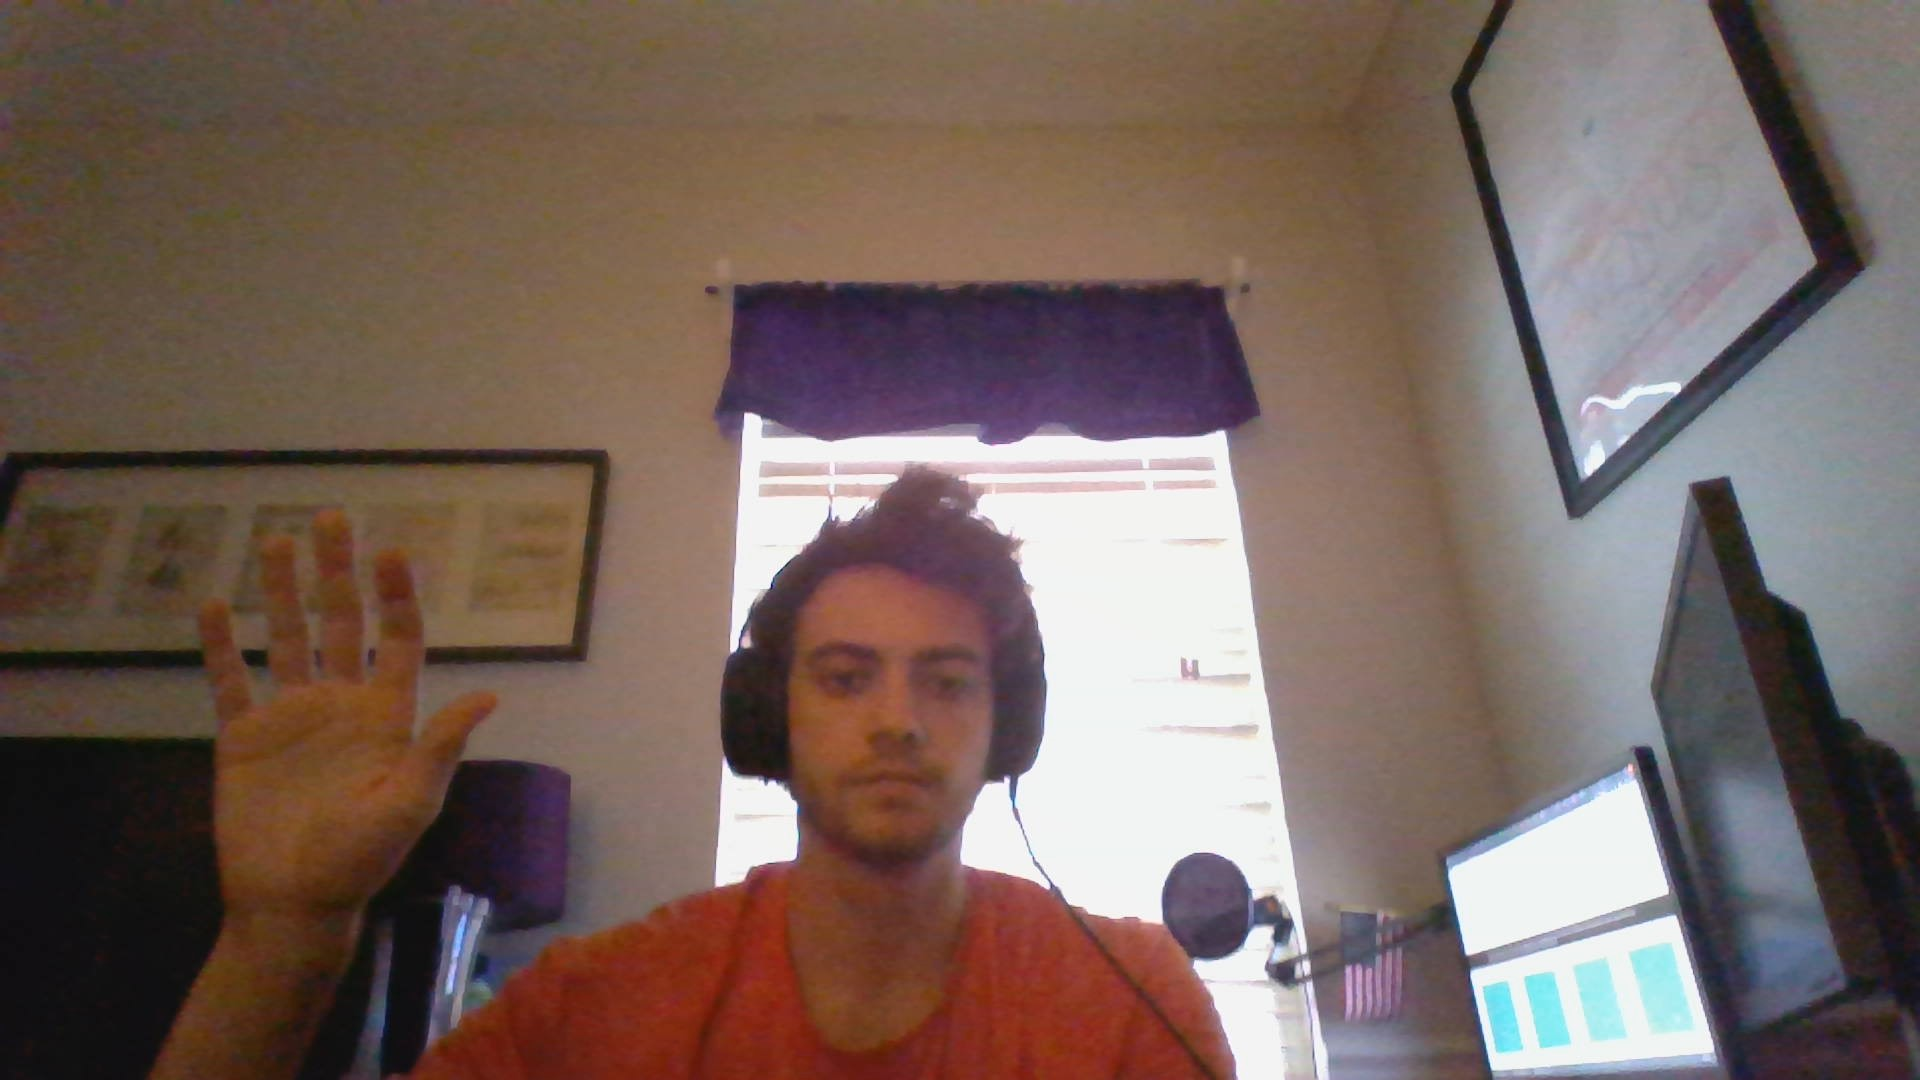Right Palm Up: (179, 504, 500, 916)
